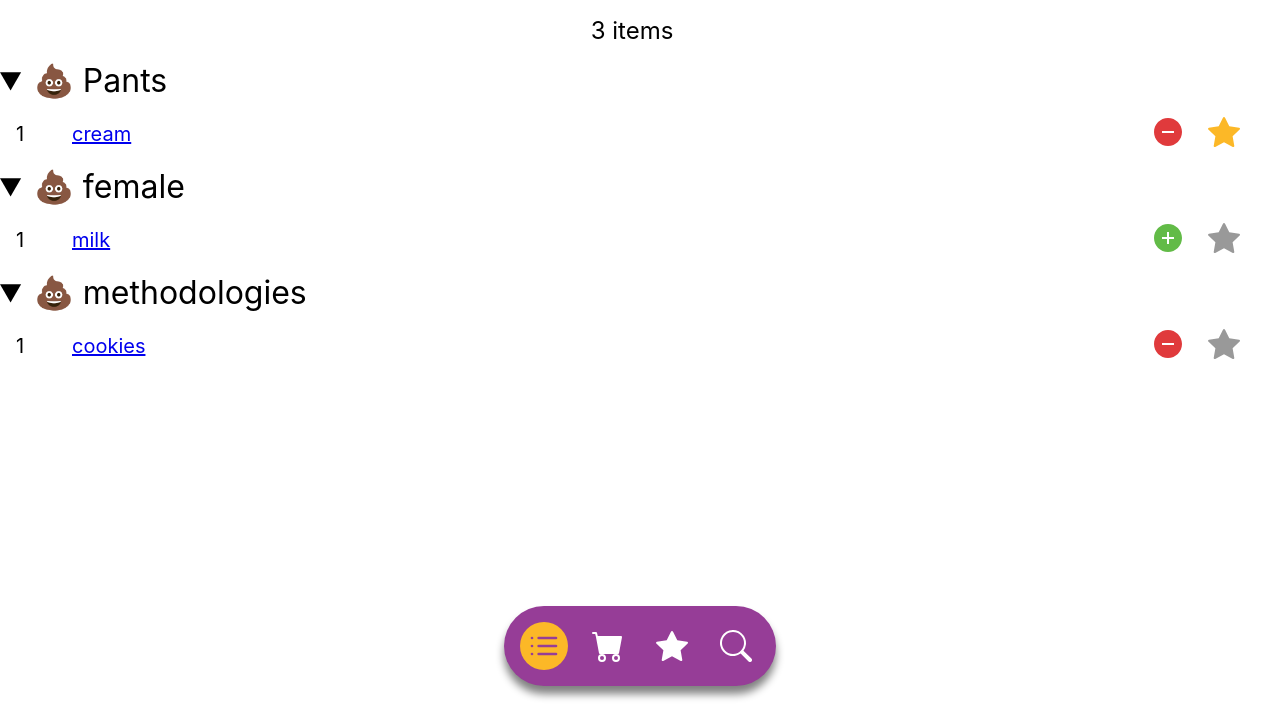
Test: Groceries view should › navigate to mandatory buy list
Click the button named "Show mandatory items to buy".
click(672, 646)  # box [656,630,688,662]
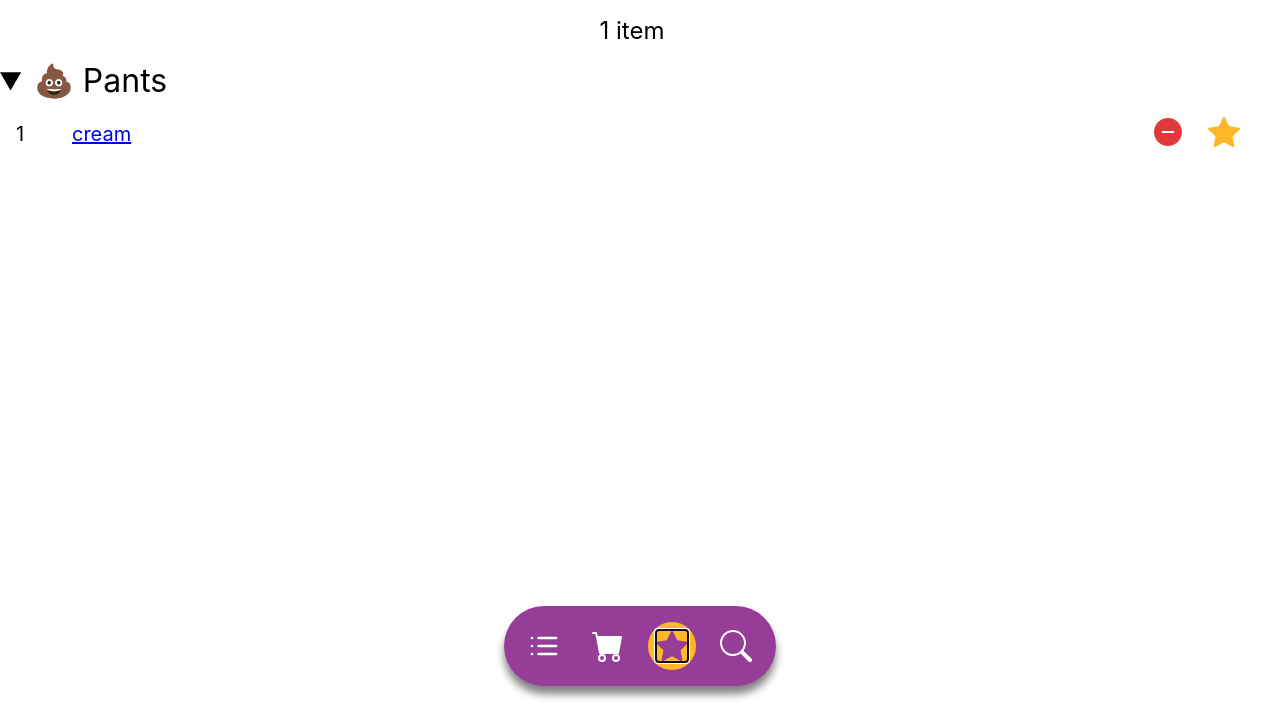
Expected: the text "cream" is shown, [72,122,131,146]
Result: the link "milk" is gone
Result: the link "cookies" is gone
